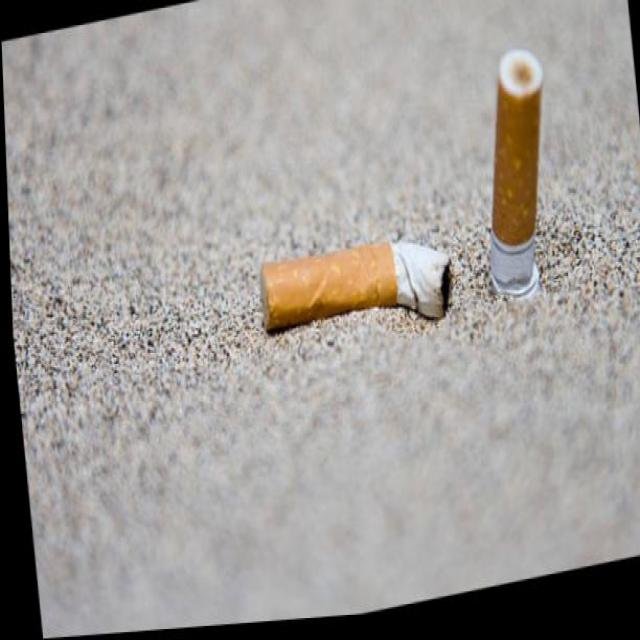cigarette: (251, 228, 458, 362), (467, 50, 561, 320)
